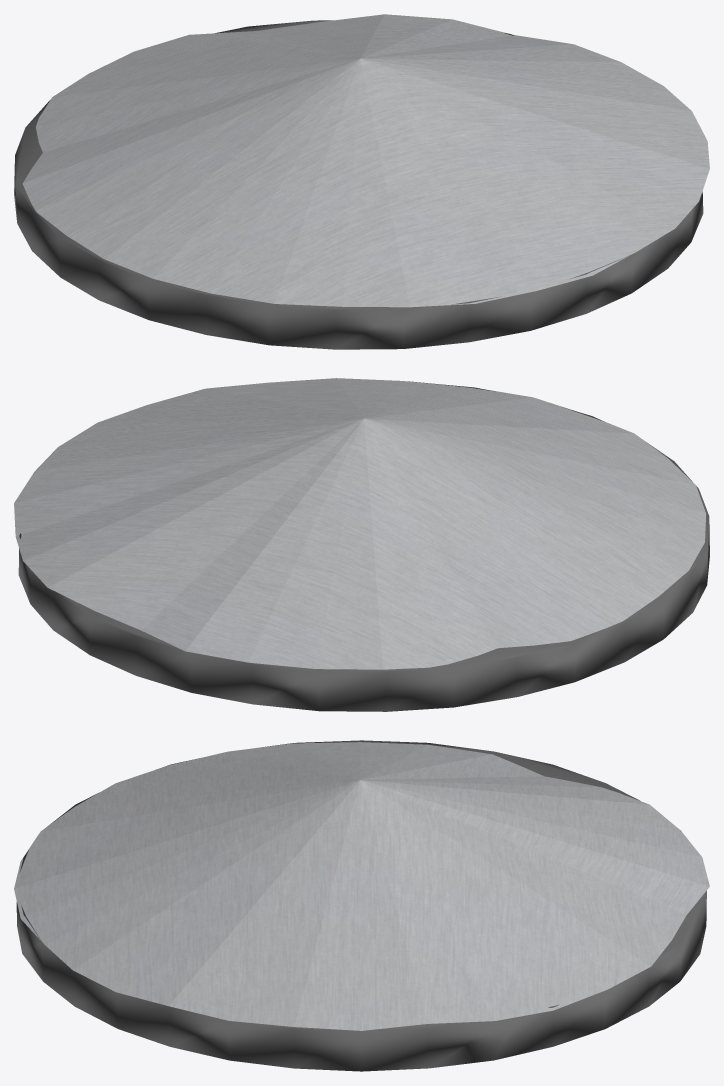
Rendered from xbandradio.glb.
3 views of the same model, one above another, from view 1: azimuth 30°, elevation 25°; view 2: azimuth 150°, elevation 25°; view 3: azimuth 270°, elevation 25° (orthographic).
Parts seen in each view (by area): view 1: Cone, Cylinder; view 2: Cone, Cylinder; view 3: Cone, Cylinder.
Part boxes in pixels (x1,y1,x2,y2): Cone: (22, 14, 709, 307); Cylinder: (14, 20, 703, 349); Cone: (14, 378, 705, 669); Cylinder: (18, 381, 709, 711); Cone: (14, 742, 709, 1030); Cylinder: (16, 740, 706, 1071).
Size of the model in its own units: 2.01 by 0.4658 by 2.01.
Materials: 2 (1 with a texture image).
